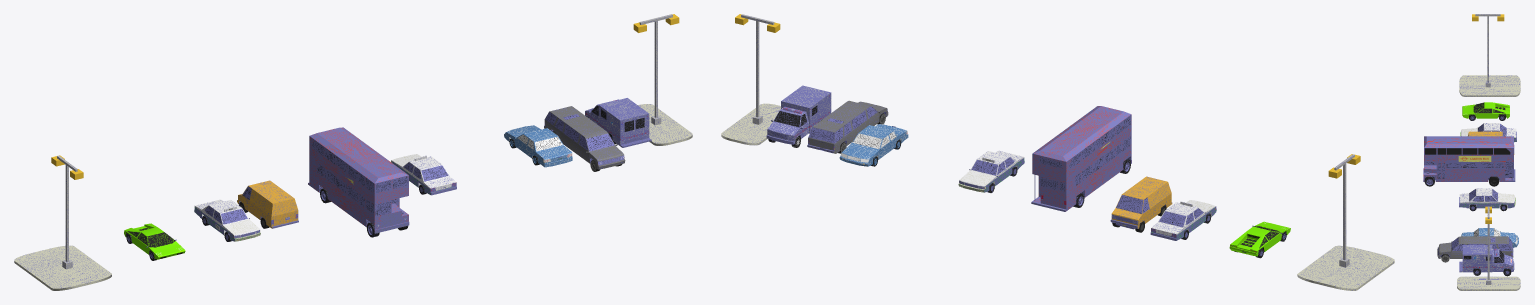
Rendered from VerticalParking1.fbx.
The picture shows the model from 3 angles, left to right: view 1: azimuth 30°, elevation 25°; view 2: azimuth 150°, elevation 25°; view 3: azimuth 270°, elevation 25°; orthographic projection. The views are drawn at different scales.
Parts seen in each view (by area): view 1: pricion_1_1, planter2, sub1_3_1, vasx_1_1, vasx1, limo_8_1, limo_5_2, limo_5_1, super1, planter1, parking_lot_lamp1, G_10_lines; view 2: pricion_1_1, planter2, vasx_1_1, sub1_3_1, vasx1, limo_8_1, limo_5_1, limo_5_2, planter1, super1, parking_lot_lamp1, G_10_lines; view 3: pricion_1_1, planter2, vasx_1_1, sub1_3_1, limo_5_1, planter1, super1, limo_5_2, limo_8_1, G_10_lines, parking_lot_lamp1, vasx1 (+2 smaller).
Boxes of the visible parts, x1,y1,x2,y2 form: pricion_1_1: [308, 127, 409, 233]; planter2: [14, 245, 111, 290]; sub1_3_1: [544, 106, 625, 169]; vasx_1_1: [585, 98, 651, 147]; vasx1: [237, 180, 298, 228]; limo_8_1: [504, 125, 572, 167]; limo_5_2: [194, 199, 260, 241]; limo_5_1: [391, 154, 456, 195]; super1: [124, 223, 185, 259]; planter1: [638, 104, 692, 145]; parking_lot_lamp1: [639, 14, 672, 125]; G_10_lines: [57, 155, 77, 269]; pricion_1_1: [1031, 106, 1131, 211]; planter2: [1297, 245, 1394, 290]; vasx_1_1: [766, 85, 831, 144]; sub1_3_1: [807, 100, 888, 153]; vasx1: [1110, 176, 1172, 229]; limo_8_1: [839, 124, 908, 166]; limo_5_1: [958, 150, 1024, 192]; limo_5_2: [1150, 200, 1216, 240]; planter1: [721, 103, 780, 145]; super1: [1229, 221, 1290, 256]; parking_lot_lamp1: [741, 14, 774, 124]; G_10_lines: [1334, 154, 1354, 267]; pricion_1_1: [1423, 136, 1515, 181]; planter2: [1459, 75, 1520, 96]; vasx_1_1: [1459, 245, 1514, 272]; sub1_3_1: [1437, 236, 1513, 258]; limo_5_1: [1459, 188, 1515, 208]; planter1: [1457, 276, 1520, 290]; super1: [1462, 102, 1509, 118]; limo_5_2: [1460, 123, 1516, 142]; limo_8_1: [1461, 228, 1518, 247]; G_10_lines: [1475, 14, 1500, 87]; parking_lot_lamp1: [1486, 206, 1491, 284]; vasx1: [1468, 131, 1514, 154].
Bounding box in the file's own units: 45.67 × 7.26 × 8.71.
